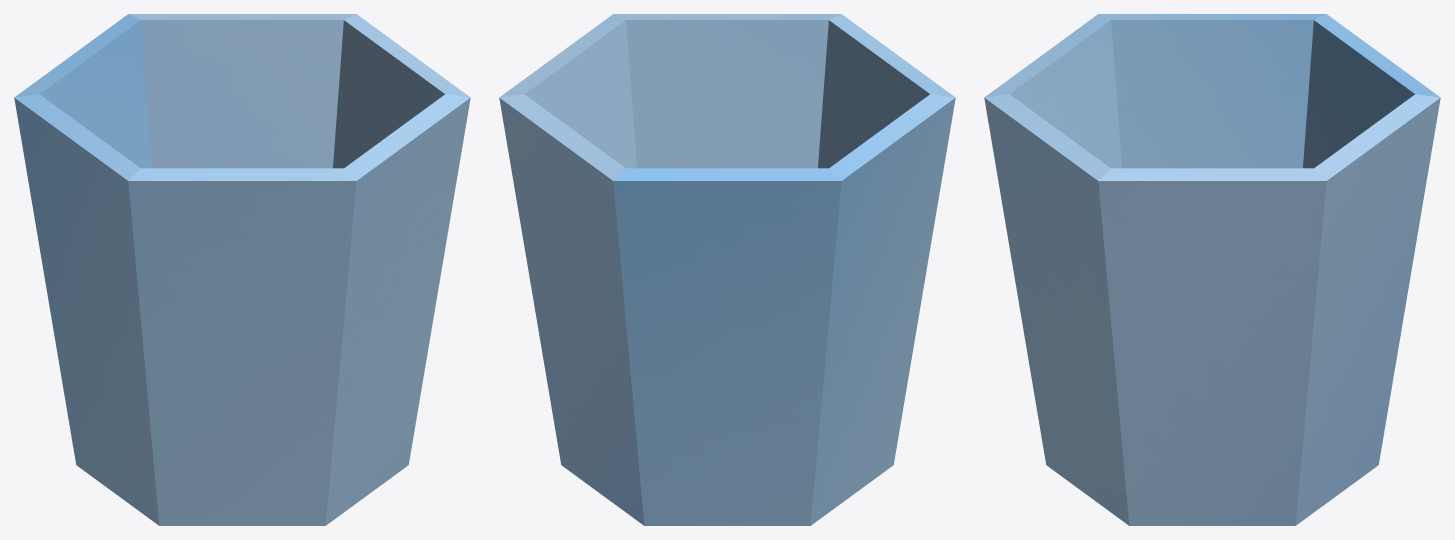
Rendered from bicchiere.fbx.
The picture shows the model from 3 angles, left to right: view 1: azimuth 30°, elevation 25°; view 2: azimuth 150°, elevation 25°; view 3: azimuth 270°, elevation 25°; orthographic projection.
Visible parts, largest first — view 1: bicchiere; view 2: bicchiere; view 3: bicchiere.
Boxes of the visible parts, x1=… form: bicchiere: x1=14, y1=14, x2=470, y2=525; bicchiere: x1=499, y1=14, x2=955, y2=525; bicchiere: x1=984, y1=14, x2=1440, y2=525.
Size of the model in its own units: 0.0768 by 0.0795 by 0.0887.
